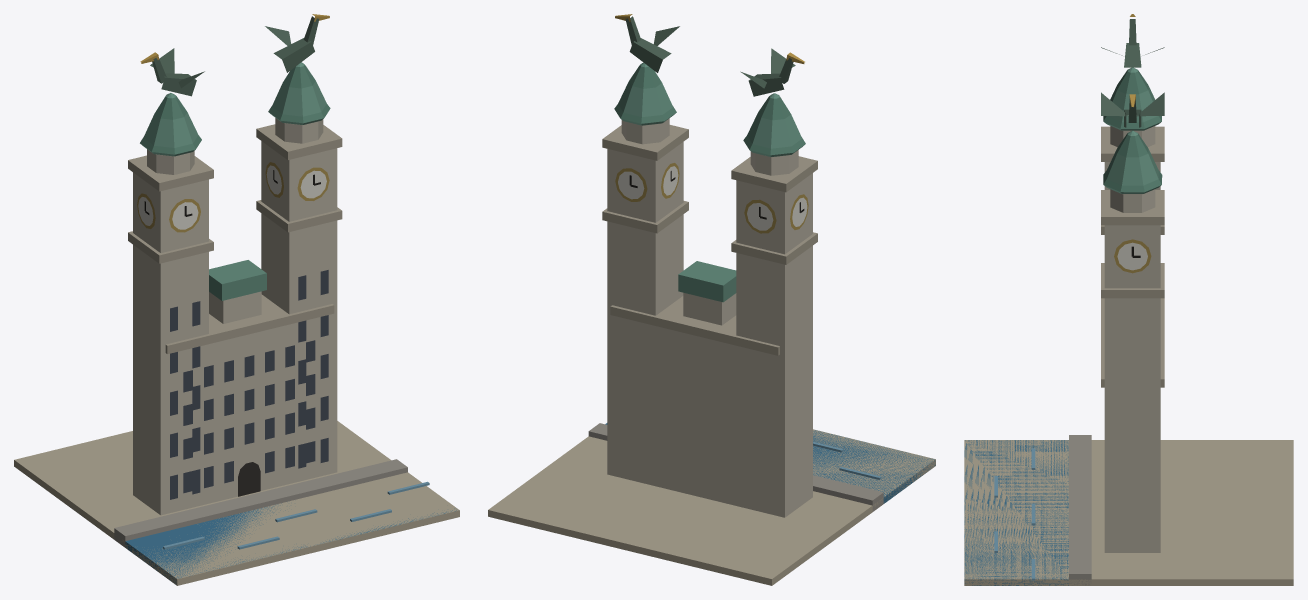
File: liverBuilding.glb
The picture shows the model from 3 angles, left to right: view 1: azimuth 30°, elevation 25°; view 2: azimuth 150°, elevation 25°; view 3: azimuth 270°, elevation 25°; orthographic projection.
Visible parts, largest first — view 1: liverBuilding; view 2: liverBuilding; view 3: liverBuilding.
Boxes of the visible parts, box(x1,y1,x2,y2) form: liverBuilding: box(14, 14, 459, 585); liverBuilding: box(488, 14, 935, 585); liverBuilding: box(964, 14, 1293, 585).
Size of the model in its own units: 1.78 by 2.71 by 1.76.
